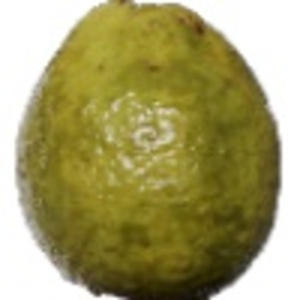goiaba: (6, 1, 288, 298)
